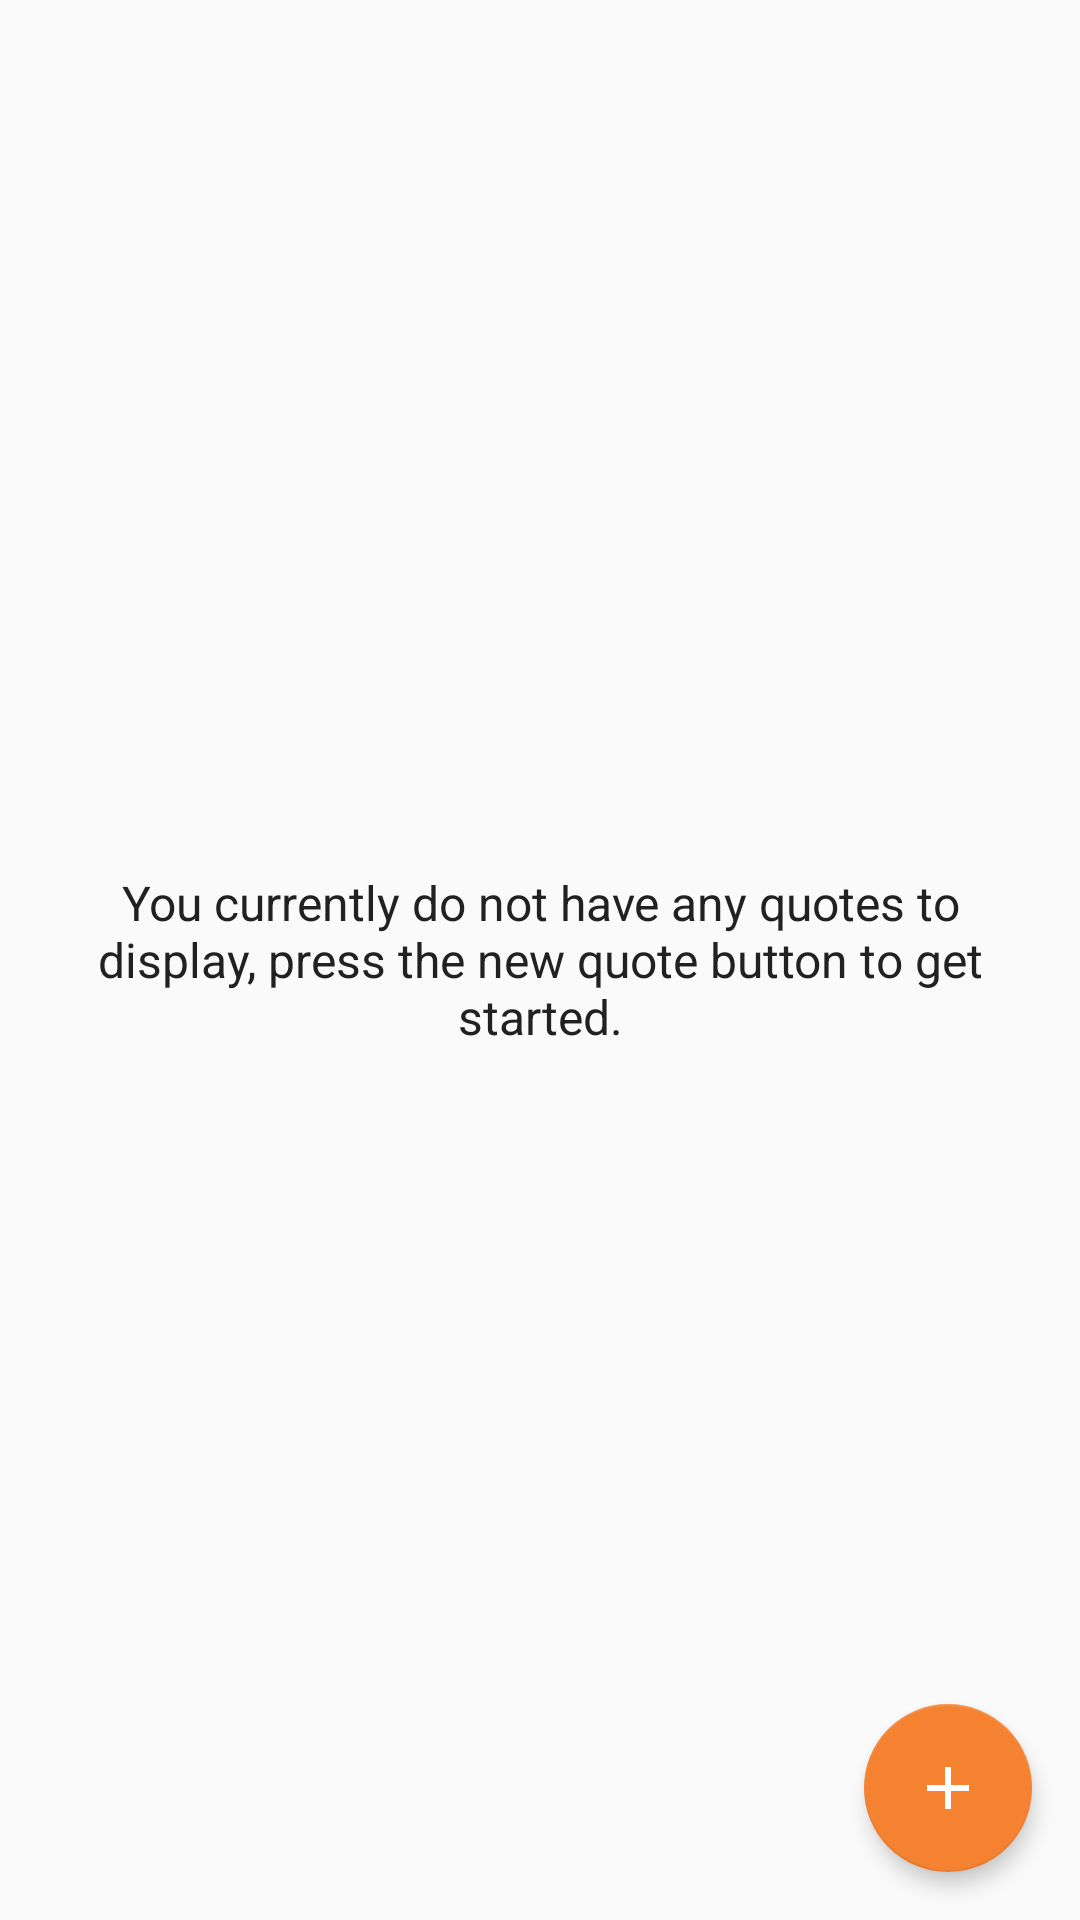

Named icons in this screenshot (1080*1920) and their centers, [x,y]:
plus sign: [948,1788]
